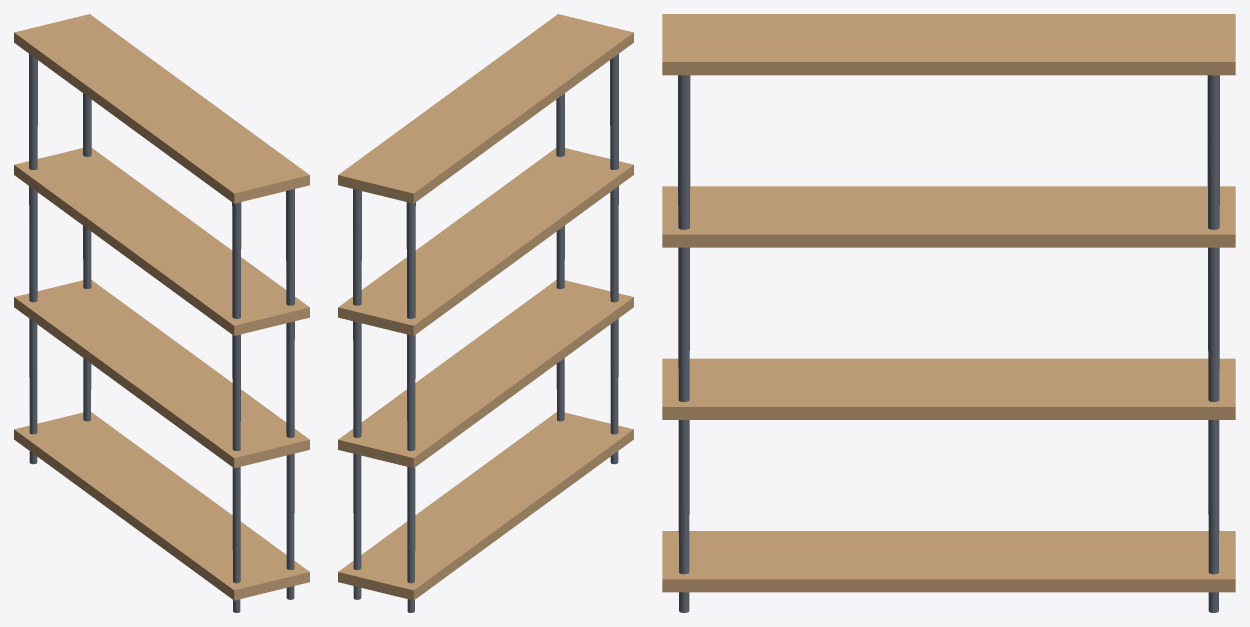
The model's file is bookcase.fbx.
3 views of the same model, side by side, from view 1: azimuth 30°, elevation 25°; view 2: azimuth 150°, elevation 25°; view 3: azimuth 270°, elevation 25° (orthographic). The views are drawn at different scales.
Visible parts, largest first — view 1: bookcase; view 2: bookcase; view 3: bookcase.
Part boxes in pixels (box(x1,y1,x2,y2)): bookcase: box(14, 14, 309, 612); bookcase: box(338, 14, 633, 612); bookcase: box(662, 14, 1235, 612).
Bounding box in the file's own units: 77.9 × 419 × 392.
